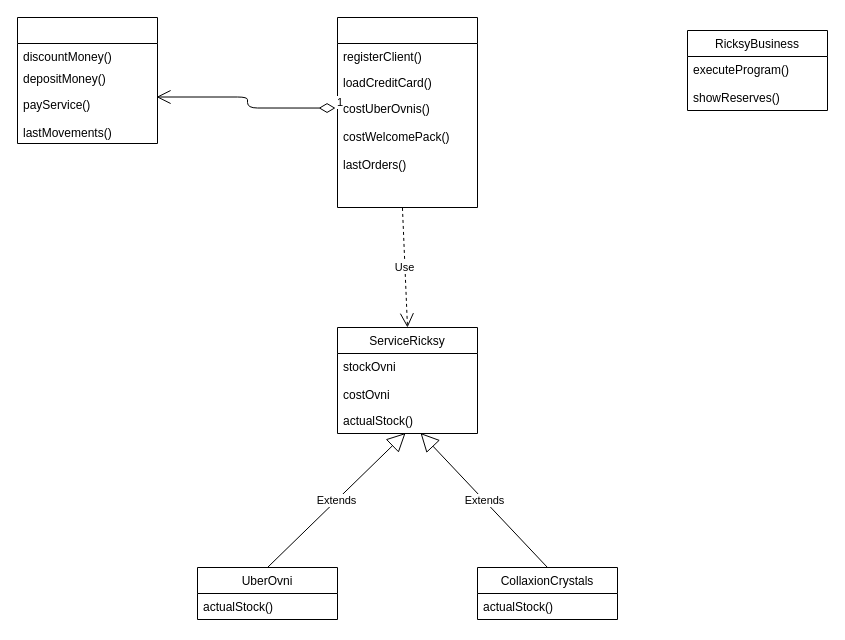
This 845x640 diagram has some shape labels left out. Here are the shapes that lost their labels. From the top down, the box of each, then its label:
(16, 16, 158, 144): CreditCard
(336, 16, 478, 208): Receptive
